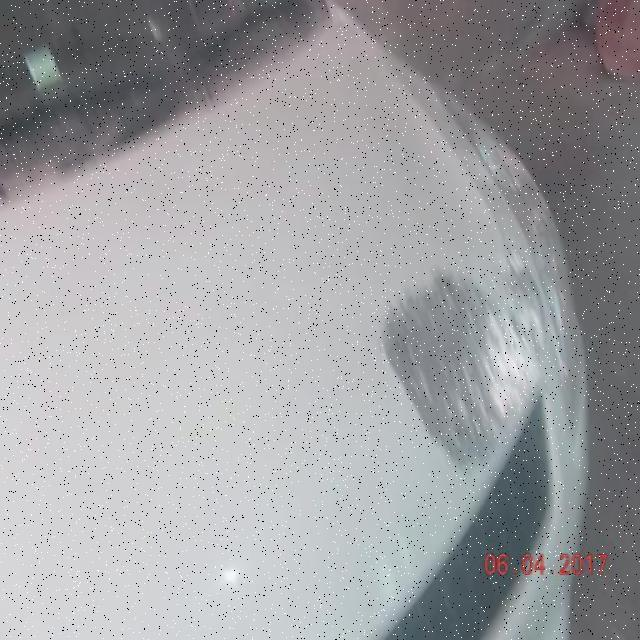car damage: (380, 251, 549, 484)
